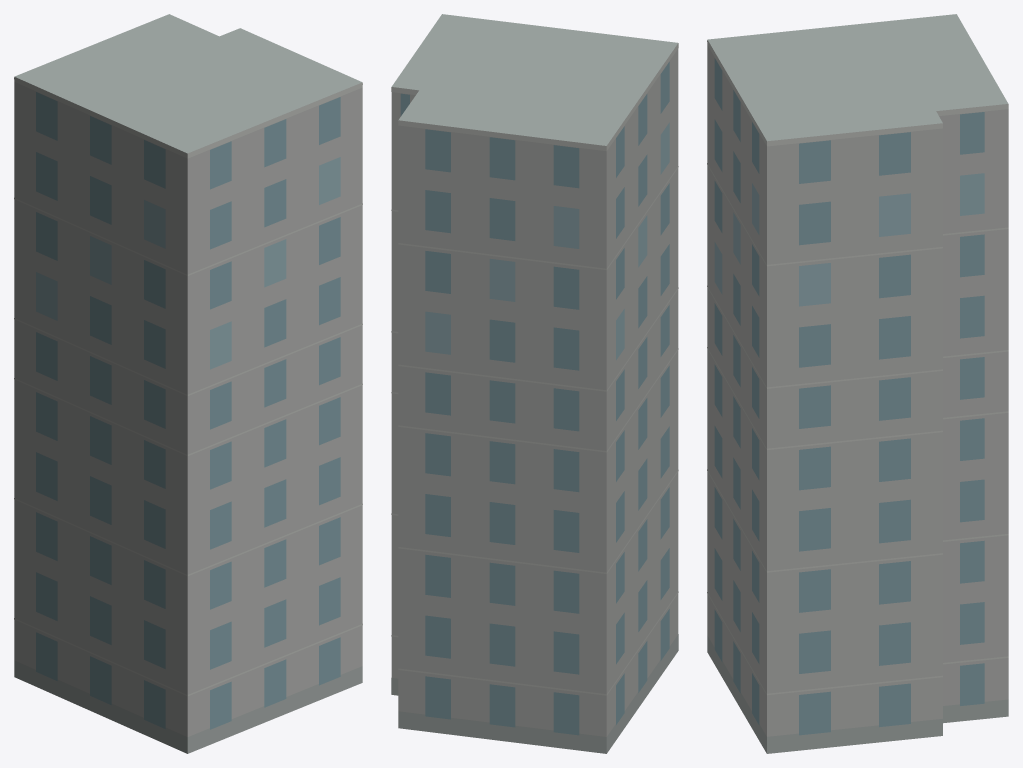
The model's file is survey-upis-32964705.glb.
3 views of the same model, side by side, from view 1: azimuth 30°, elevation 25°; view 2: azimuth 150°, elevation 25°; view 3: azimuth 270°, elevation 25° (orthographic). The views are drawn at different scales.
Visible parts, largest first — view 1: survey-upis-32964705.tmp; view 2: survey-upis-32964705.tmp; view 3: survey-upis-32964705.tmp.
Boxes of the visible parts, x1,y1,x2,y2 form: survey-upis-32964705.tmp: (14, 14, 362, 753); survey-upis-32964705.tmp: (391, 14, 678, 753); survey-upis-32964705.tmp: (707, 14, 1008, 753).
Bounding box in the file's own units: 12.72 × 28.5 × 12.72.
